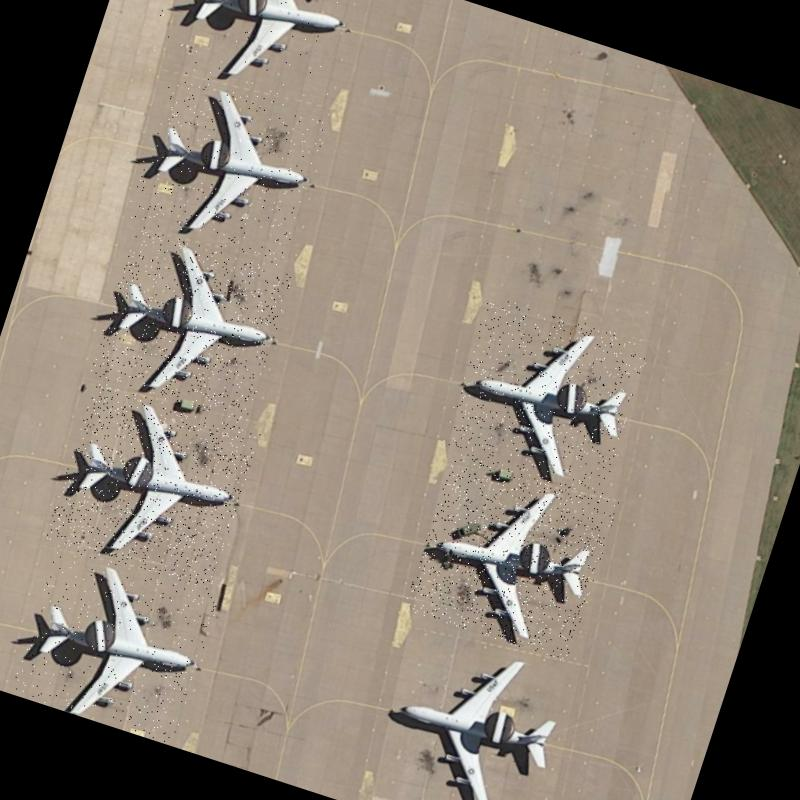A7: (403, 450, 619, 664), (44, 382, 260, 592), (441, 293, 651, 498), (10, 544, 220, 746), (372, 616, 595, 800), (89, 226, 294, 426), (125, 68, 330, 267), (147, 0, 368, 111)
